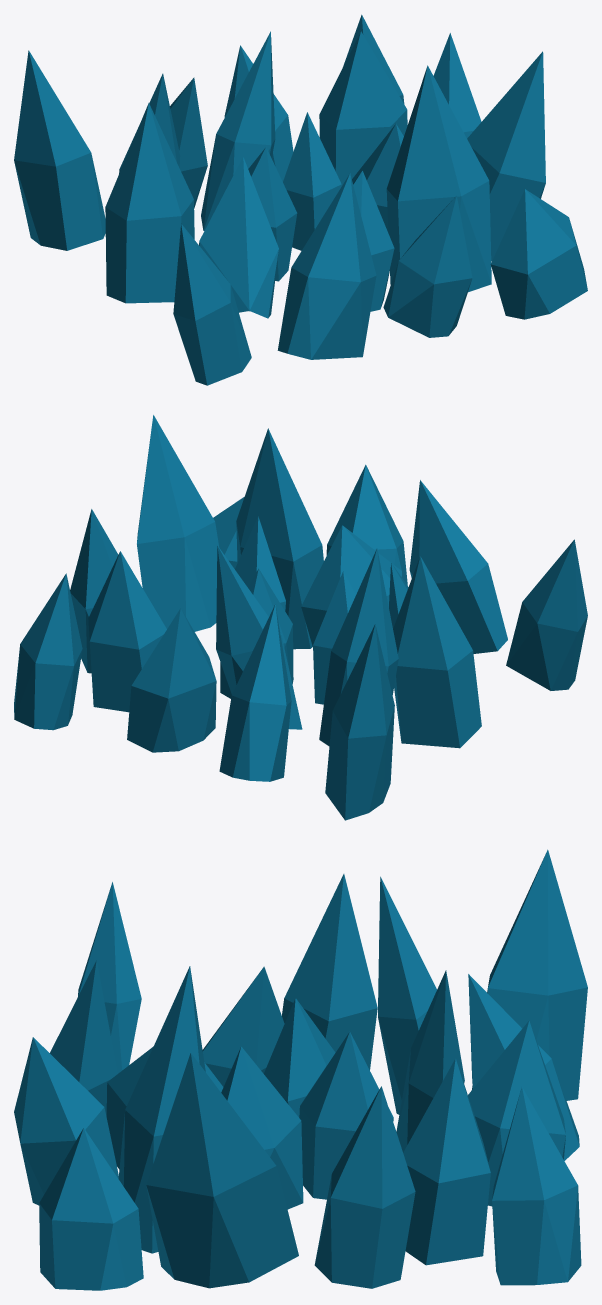
Rendered from Icespikes.glb.
The picture shows the model from 3 angles, top to bottom: view 1: azimuth 30°, elevation 25°; view 2: azimuth 150°, elevation 25°; view 3: azimuth 270°, elevation 25°; orthographic projection. The views are drawn at different scales.
Parts seen in each view (by area): view 1: Icosphere.018; view 2: Icosphere.018; view 3: Icosphere.018.
Part boxes in pixels (<box>): Icosphere.018: <box>14,14,587,385</box>; Icosphere.018: <box>14,415,587,820</box>; Icosphere.018: <box>14,849,587,1290</box>.
Size of the model in its own units: 1.01 by 0.5432 by 1.01.
